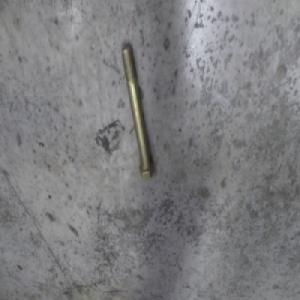Bolt: (121, 44, 155, 180)
